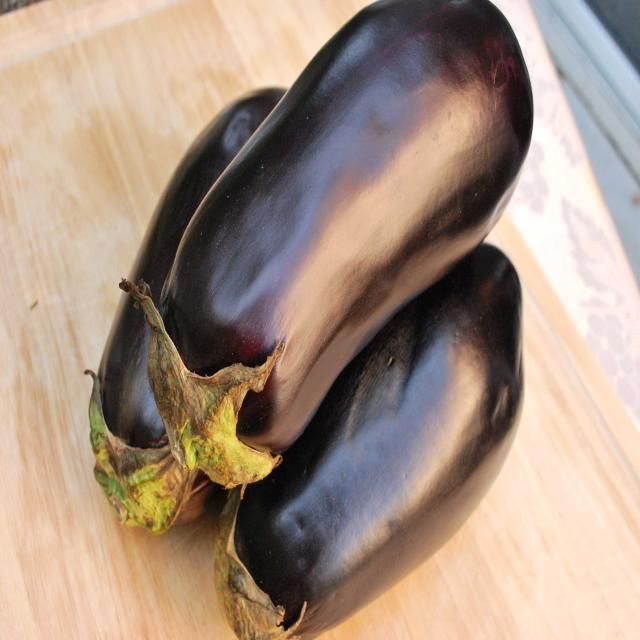Eggplant-r1Ob: (132, 2, 532, 487), (215, 245, 524, 639), (130, 88, 285, 304), (86, 295, 214, 534)
